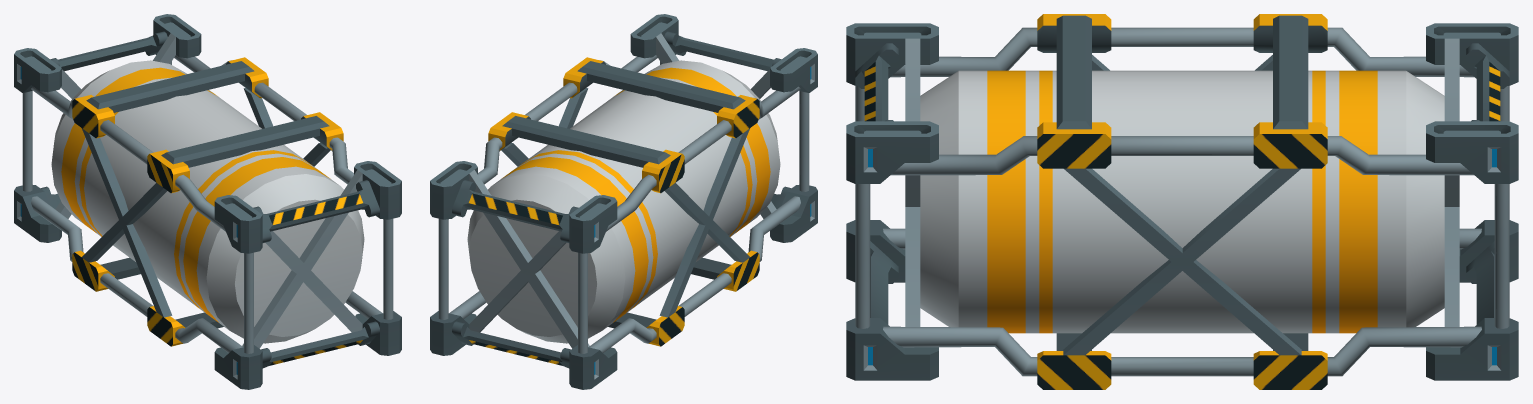
The model's file is Gas_cistern_type_A_001.glb.
3 renders of one model, left to right at view 1: azimuth 30°, elevation 25°; view 2: azimuth 150°, elevation 25°; view 3: azimuth 270°, elevation 25°, orthographic. The views are drawn at different scales.
Visible parts, largest first — view 1: Gas_cistern_type_A_001; view 2: Gas_cistern_type_A_001; view 3: Gas_cistern_type_A_001.
Part boxes in pixels (box(x1,y1,x2,y2)): Gas_cistern_type_A_001: box(14, 14, 401, 389); Gas_cistern_type_A_001: box(430, 14, 817, 389); Gas_cistern_type_A_001: box(846, 14, 1518, 389).
Bounding box in the file's own units: 2.53 × 2.57 × 6.
1 material, 1 textured.
